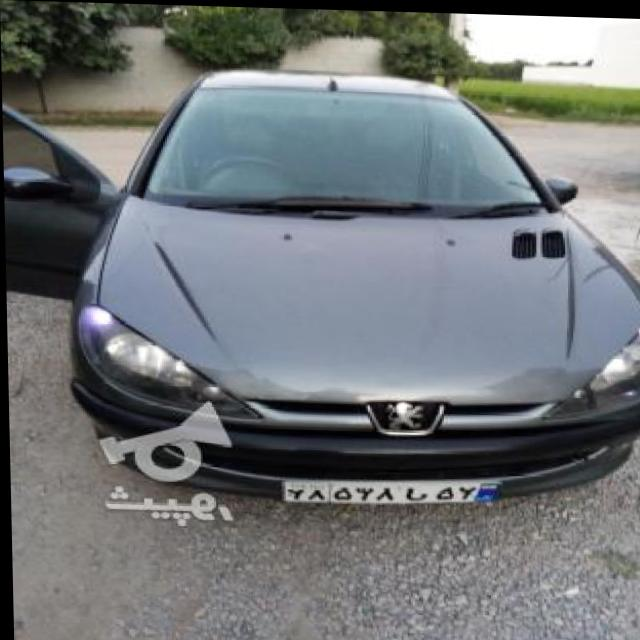licence: (279, 474, 497, 501)
